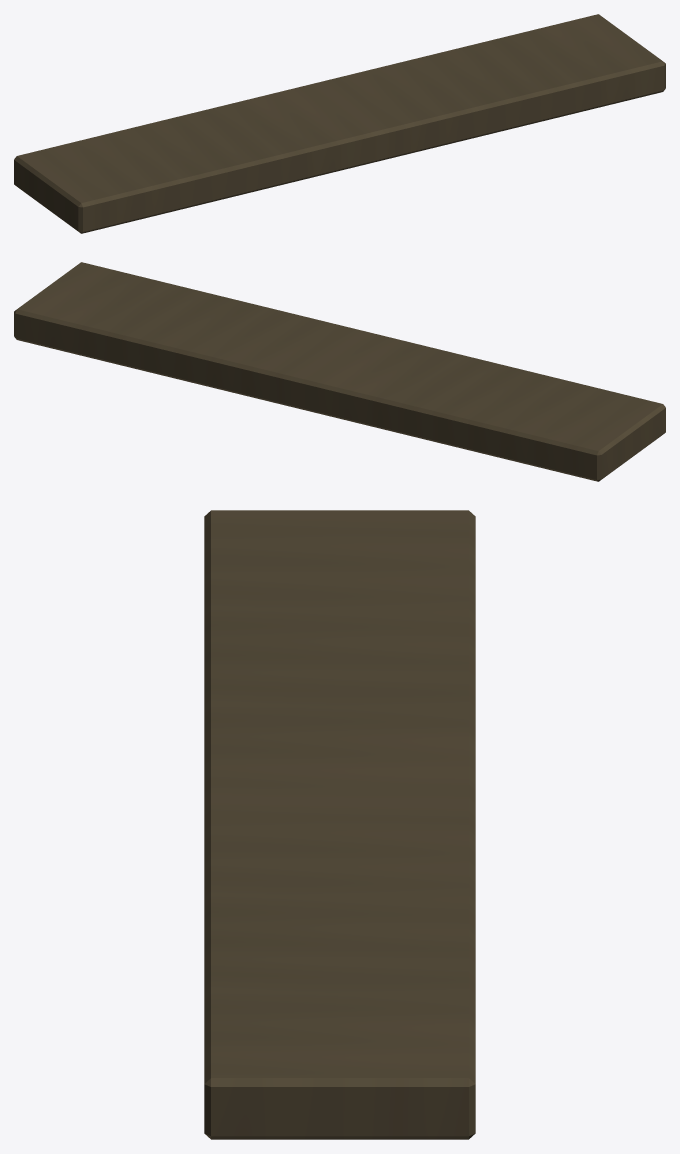
The model's file is WarrensC_WVC074_ShelfDivider_Mars_SM.fbx.
3 views of the same model, one above another, from view 1: azimuth 30°, elevation 25°; view 2: azimuth 150°, elevation 25°; view 3: azimuth 270°, elevation 25° (orthographic). The views are drawn at different scales.
Parts seen in each view (by area): view 1: WarrensC_WVC074_ShelfDivider_Mars_SM.001; view 2: WarrensC_WVC074_ShelfDivider_Mars_SM.001; view 3: WarrensC_WVC074_ShelfDivider_Mars_SM.001.
Part boxes in pixels (x1=…): WarrensC_WVC074_ShelfDivider_Mars_SM.001: x1=14, y1=14, x2=665, y2=233; WarrensC_WVC074_ShelfDivider_Mars_SM.001: x1=14, y1=262, x2=665, y2=481; WarrensC_WVC074_ShelfDivider_Mars_SM.001: x1=204, y1=510, x2=475, y2=1139.
Size of the model in its own units: 200 by 40 by 10.
